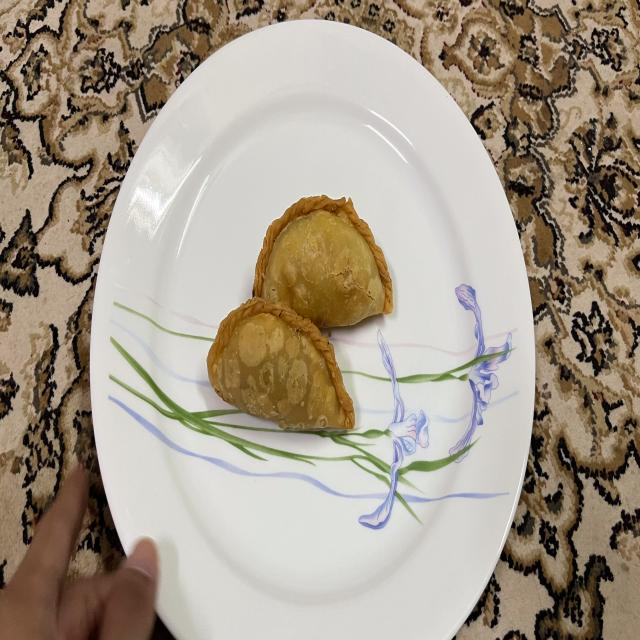karipap: (208, 296, 355, 431), (254, 196, 392, 329)
